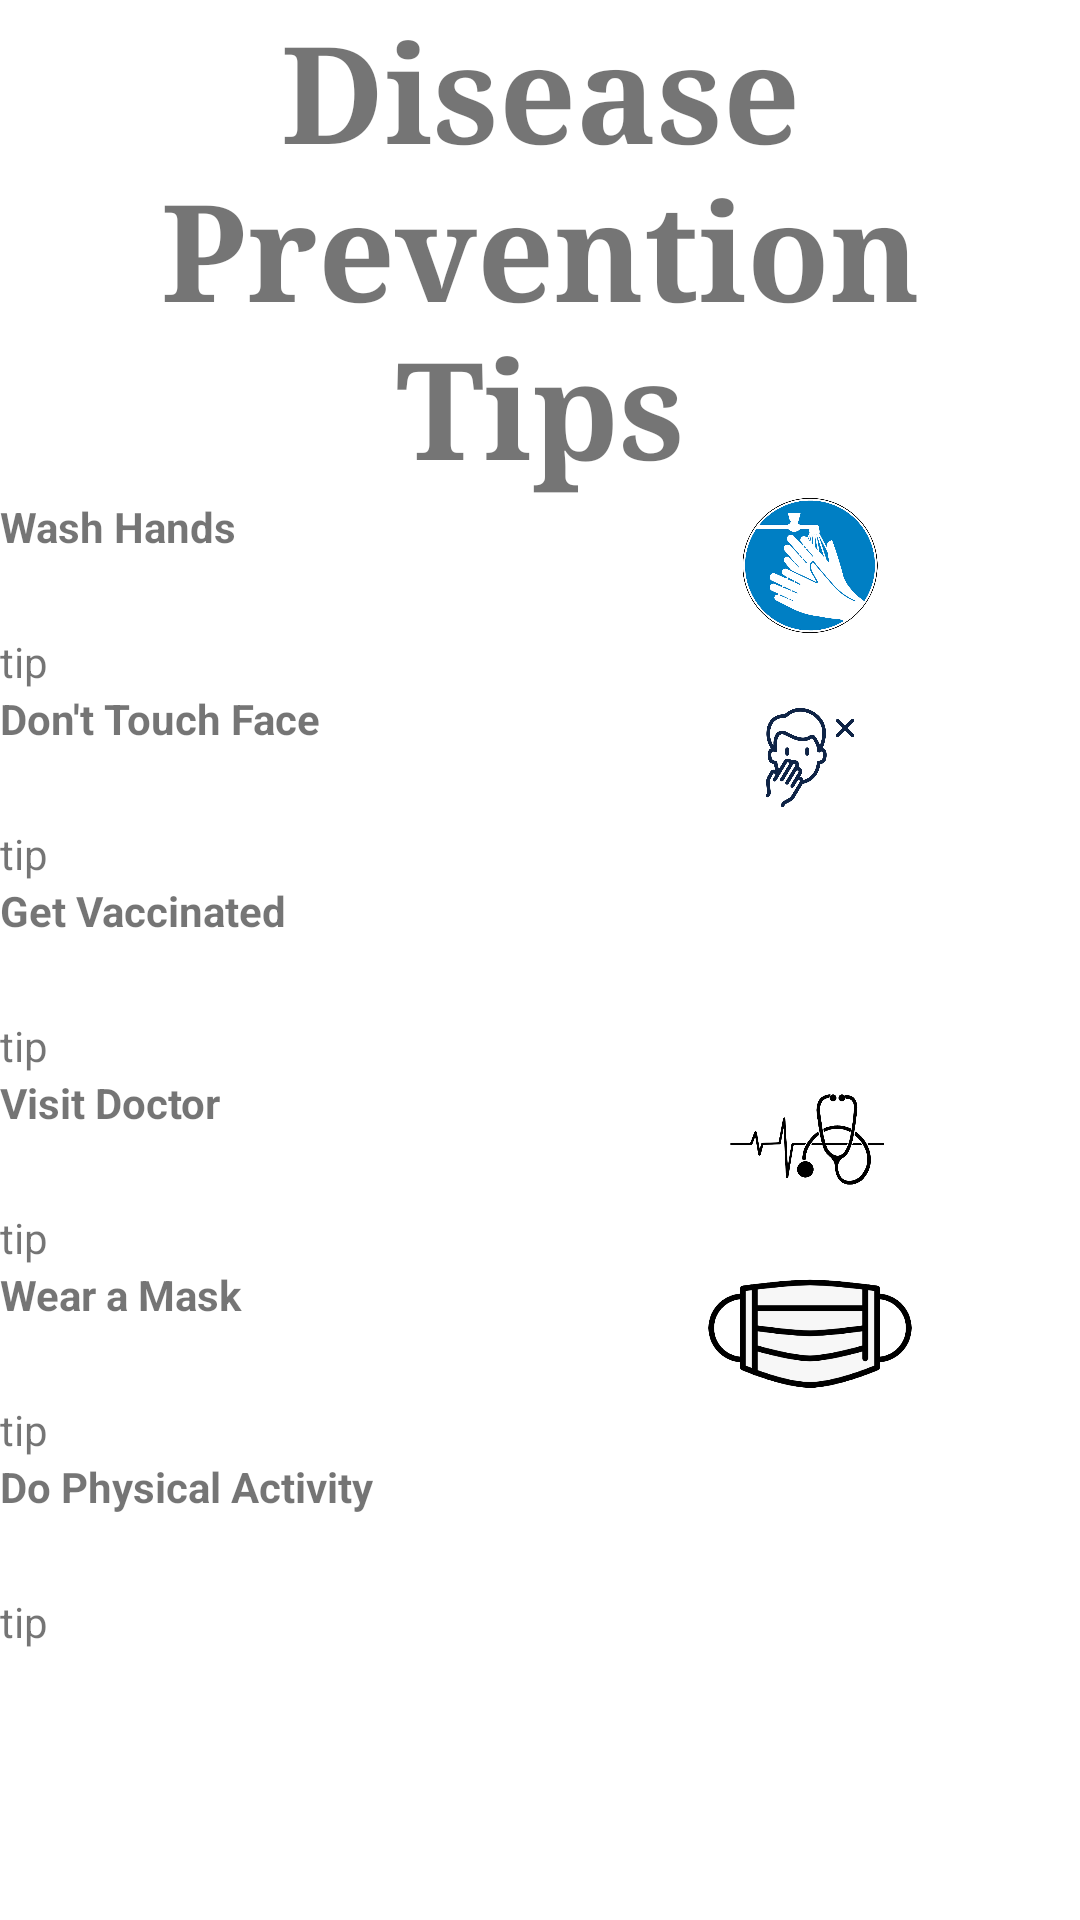

Named icons in this screenshot (1080x1920) and their centers, [x,y]:
handwash: [810,565]
stethoscope: [807,1139]
